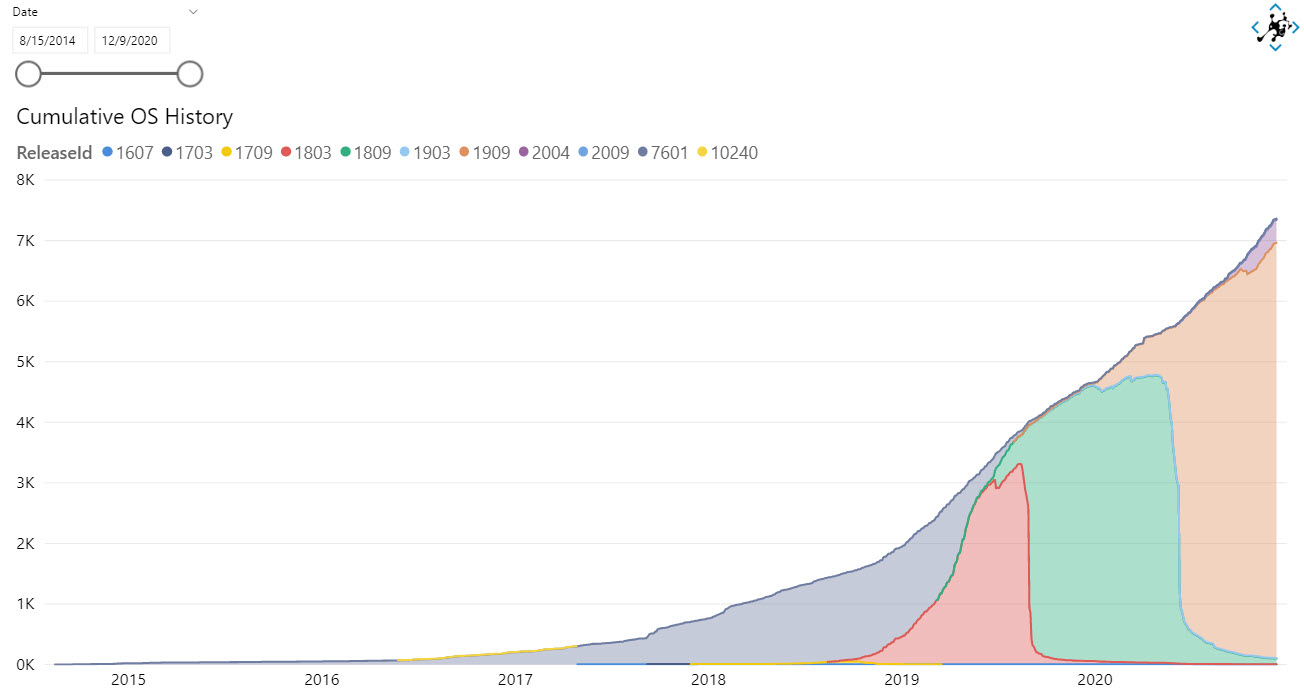

What the dashboard file says about the page in this screenshot:
{"tool":"powerbi","page":{"name":"Cumulative OS History","canvas":[1280,720],"ordinal":2},"visuals":[{"type":"stackedAreaChart","title":"Cumulative OS History","fields":{"Category":["Calendar.Date"],"Y":["Count(OSHistory.ResourceID)"],"Series":["OSHistory.DisplayVersion"]},"box":[11.9,99.3,1256.2,585.2],"z":0},{"type":"slicer","fields":{"Values":["Calendar.Date"]},"box":[0,0,206.9,99.3],"z":1000},{"type":"image","box":[1207.6,0,72.4,56.9],"z":2000}]}

Visuals, with their boxes on the page's 1280x720 design canvas (x1, y1, x2, y2). These are canvas units, not pixel positions in the 1304x696 screenshot, which may show the page scaled, cropped or inside an application window:
"Cumulative OS History" stackedAreaChart: x1=12 y1=99 x2=1268 y2=684
slicer - Calendar.Date: x1=0 y1=0 x2=207 y2=99
image: x1=1208 y1=0 x2=1280 y2=57
